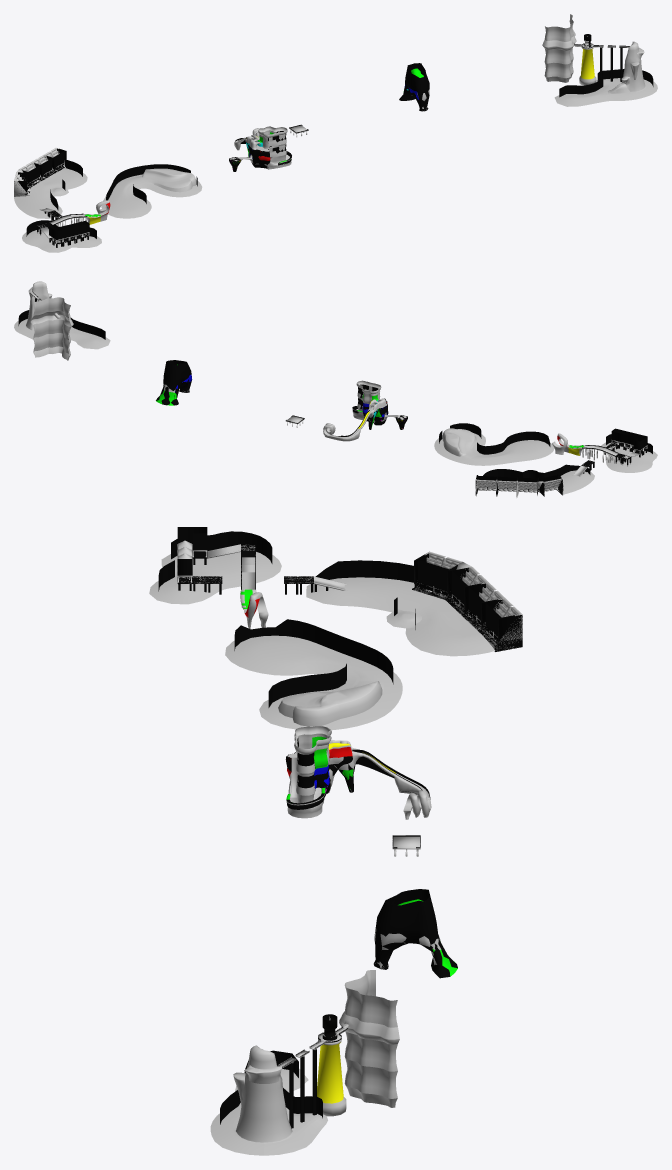
File: eco1.obj
3 views of the same model, one above another, from view 1: azimuth 30°, elevation 25°; view 2: azimuth 150°, elevation 25°; view 3: azimuth 270°, elevation 25° (orthographic). The views are drawn at different scales.
Parts seen in each view (by area): view 1: object_0001DC44, object_000235F4, object_000381EC, object_0001FFAC, object_0001E890, object_000279CC, object_00015728, object_000730A8, object_000285B8, object_00022738, object_000252BC, object_00079494 (+5 smaller); view 2: object_0001DC44, object_000235F4, object_000246C4, object_000216AC, object_00079494, object_0002D52C, object_00079460, object_000279CC, object_00015728, object_0001FFAC, object_000252BC, object_000381EC (+3 smaller); view 3: object_0001DC44, object_000381EC, object_000235F4, object_0001E890, object_0001FFAC, object_00079494, object_000252BC, object_00022738, object_000730A8, object_000246C4, object_00014174, object_0001F220 (+14 smaller).
Part boxes in pixels (x1=…): object_0001DC44: x1=399, y1=63, x2=429, y2=111; object_000235F4: x1=101, y1=197, x2=151, y2=218; object_000381EC: x1=622, y1=41, x2=645, y2=91; object_0001FFAC: x1=14, y1=198, x2=62, y2=218; object_0001E890: x1=44, y1=168, x2=87, y2=189; object_000279CC: x1=554, y1=91, x2=604, y2=106; object_00015728: x1=49, y1=220, x2=89, y2=239; object_000730A8: x1=579, y1=44, x2=596, y2=85; object_000285B8: x1=600, y1=82, x2=657, y2=101; object_00022738: x1=40, y1=236, x2=101, y2=252; object_000252BC: x1=134, y1=174, x2=202, y2=197; object_00079494: x1=544, y1=14, x2=573, y2=41; object_0001DC44: x1=156, y1=360, x2=191, y2=405; object_000235F4: x1=504, y1=440, x2=554, y2=461; object_000246C4: x1=461, y1=450, x2=520, y2=465; object_000216AC: x1=606, y1=456, x2=653, y2=472; object_00079494: x1=33, y1=297, x2=70, y2=320; object_0002D52C: x1=33, y1=319, x2=70, y2=342; object_00079460: x1=33, y1=333, x2=70, y2=355; object_000279CC: x1=69, y1=330, x2=110, y2=349; object_00015728: x1=611, y1=428, x2=647, y2=450; object_0001FFAC: x1=560, y1=470, x2=594, y2=492; object_000252BC: x1=434, y1=433, x2=485, y2=462; object_000381EC: x1=26, y1=281, x2=49, y2=330; object_0001DC44: x1=374, y1=889, x2=457, y2=978; object_000381EC: x1=236, y1=1045, x2=292, y2=1142; object_000235F4: x1=225, y1=635, x2=328, y2=675; object_0001E890: x1=405, y1=616, x2=495, y2=656; object_0001FFAC: x1=306, y1=577, x2=407, y2=609; object_00079494: x1=344, y1=970, x2=397, y2=1027; object_000252BC: x1=259, y1=684, x2=402, y2=730; object_00022738: x1=149, y1=554, x2=236, y2=604; object_000730A8: x1=317, y1=1034, x2=346, y2=1116; object_000246C4: x1=303, y1=648, x2=402, y2=688; object_00014174: x1=315, y1=560, x2=413, y2=582; object_0001F220: x1=378, y1=581, x2=461, y2=619.
Size of the model in its own units: 7722 by 649 by 1998.
